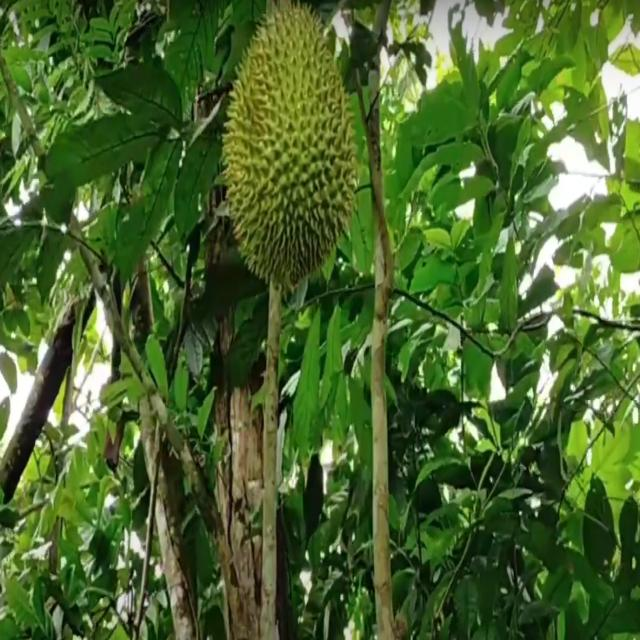immature: (221, 2, 358, 285)
